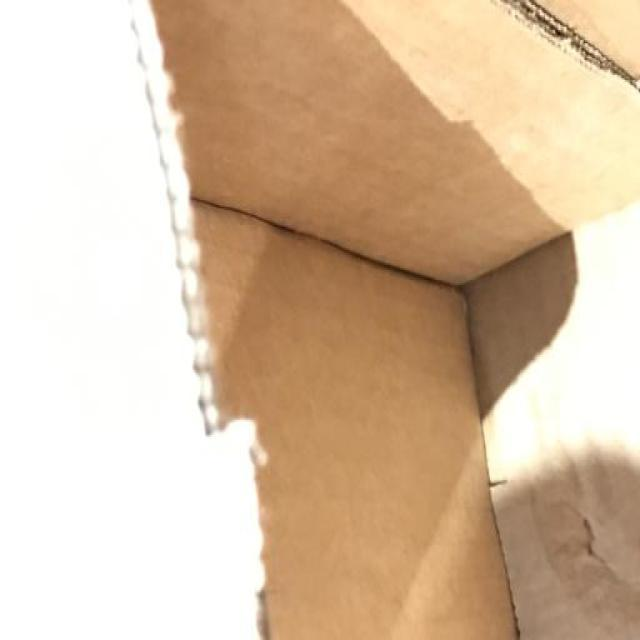Cardboard: (142, 3, 639, 640)
